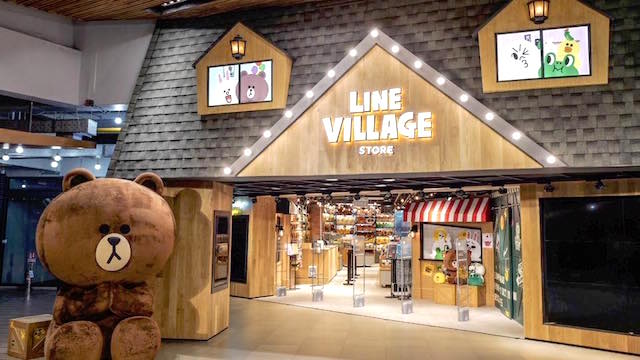line_brown: (36, 167, 178, 288), (232, 67, 272, 107), (442, 246, 472, 272)
